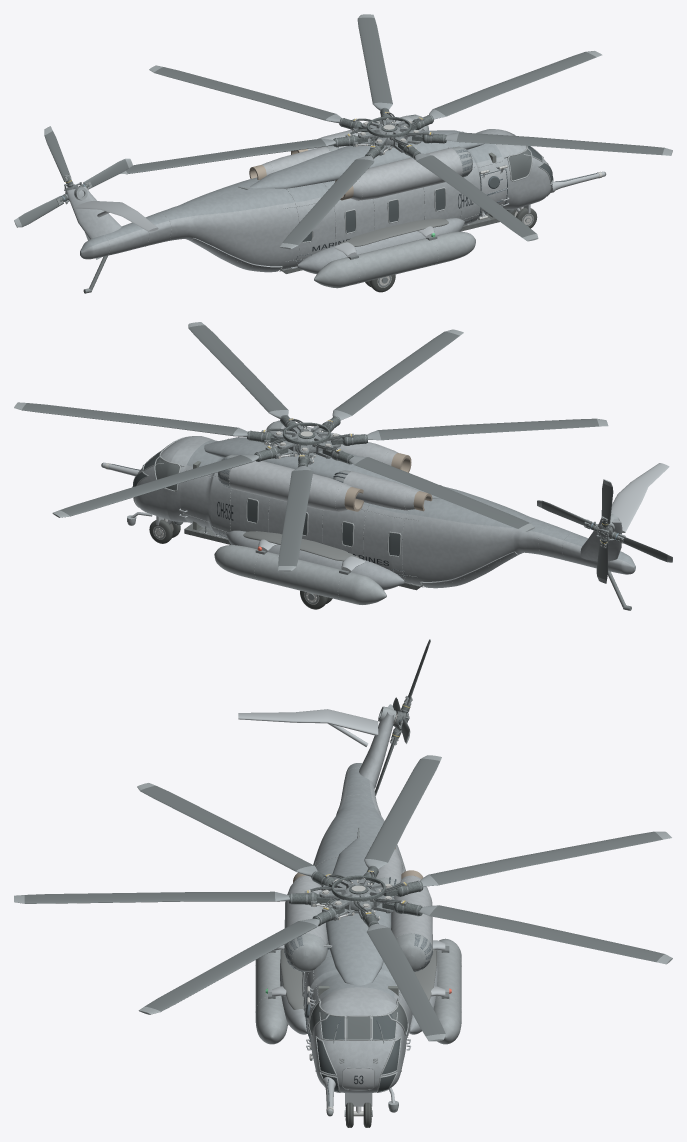
Rendered from helicopter.glb.
3 views of the same model, one above another, from view 1: azimuth 30°, elevation 25°; view 2: azimuth 150°, elevation 25°; view 3: azimuth 270°, elevation 25° (orthographic). The views are drawn at different scales.
Parts seen in each view (by area): view 1: Cargo_fuselage__Skin, Aft_airframe_shell__Skin, External_tank_R__Service grey, Transmission_doghouse__Upper skin, Aft_airframe_shell__Upper skin, T64_right_nacelle__Panel, Main_blade_7__Blade, Main_blade_6__Blade, Main_blade_1__Blade, Main_blade_4__Blade, Main_blade_5__Blade, Main_blade_3__Blade (+12 smaller); view 2: Cargo_fuselage__Skin, Aft_airframe_shell__Skin, External_tank_L__Service grey, T64_left_nacelle__Panel, Aft_airframe_shell__Upper skin, Main_blade_5__Blade, Main_blade_4__Blade, Transmission_doghouse__Upper skin, Main_blade_2__Blade, Main_blade_3__Blade, Main_blade_1__Blade, Main_blade_6__Blade (+9 smaller); view 3: Cargo_fuselage__Skin, Transmission_doghouse__Upper skin, Main_blade_2__Blade, Aft_airframe_shell__Upper skin, Main_blade_3__Blade, Main_blade_1__Blade, Main_blade_7__Blade, Main_blade_6__Blade, Main_blade_4__Blade, Main_blade_5__Blade, External_tank_R__Service grey, External_tank_L__Service grey (+8 smaller).
Boxes of the visible parts, box(x1,y1,x2,y2) form: Cargo_fuselage__Skin: box(281, 129, 551, 268); Aft_airframe_shell__Skin: box(81, 204, 285, 266); External_tank_R__Service grey: box(314, 231, 475, 288); Transmission_doghouse__Upper skin: box(250, 130, 484, 188); Aft_airframe_shell__Upper skin: box(80, 178, 280, 255); T64_right_nacelle__Panel: box(350, 148, 462, 200); Main_blade_7__Blade: box(456, 132, 664, 155); Main_blade_6__Blade: box(416, 155, 536, 237); Main_blade_1__Blade: box(433, 52, 596, 116); Main_blade_4__Blade: box(126, 138, 326, 173); Main_blade_5__Blade: box(282, 159, 373, 245); Main_blade_3__Blade: box(154, 67, 335, 120); Cargo_fuselage__Skin: box(134, 436, 421, 583); Aft_airframe_shell__Skin: box(417, 516, 634, 581); External_tank_L__Service grey: box(214, 545, 386, 604); T64_left_nacelle__Panel: box(229, 461, 351, 511); Aft_airframe_shell__Upper skin: box(422, 488, 635, 570); Main_blade_5__Blade: box(378, 418, 599, 440); Main_blade_4__Blade: box(354, 457, 530, 528); Transmission_doghouse__Upper skin: box(204, 437, 441, 498); Main_blade_2__Blade: box(60, 455, 252, 516); Main_blade_3__Blade: box(278, 470, 313, 566); Main_blade_1__Blade: box(22, 403, 238, 435); Main_blade_6__Blade: box(334, 331, 459, 415); Cargo_fuselage__Skin: box(303, 858, 412, 1087); Transmission_doghouse__Upper skin: box(326, 838, 391, 985); Main_blade_2__Blade: box(429, 905, 664, 962); Aft_airframe_shell__Upper skin: box(320, 763, 383, 856); Main_blade_3__Blade: box(429, 831, 662, 885); Main_blade_1__Blade: box(367, 927, 445, 1036); Main_blade_7__Blade: box(145, 921, 316, 1011); Main_blade_6__Blade: box(24, 891, 275, 903); Main_blade_4__Blade: box(364, 758, 440, 862); Main_blade_5__Blade: box(140, 785, 313, 871); External_tank_R__Service grey: box(255, 949, 287, 1044); External_tank_L__Service grey: box(433, 938, 461, 1044).
Size of the model in its own units: 29.29 by 8.69 by 23.02.
43 materials, 17 textured.
